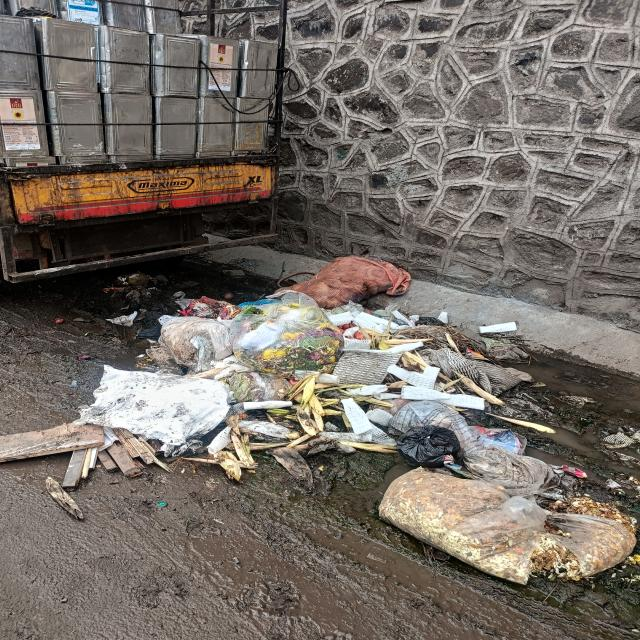garbage: (107, 258, 638, 574)
